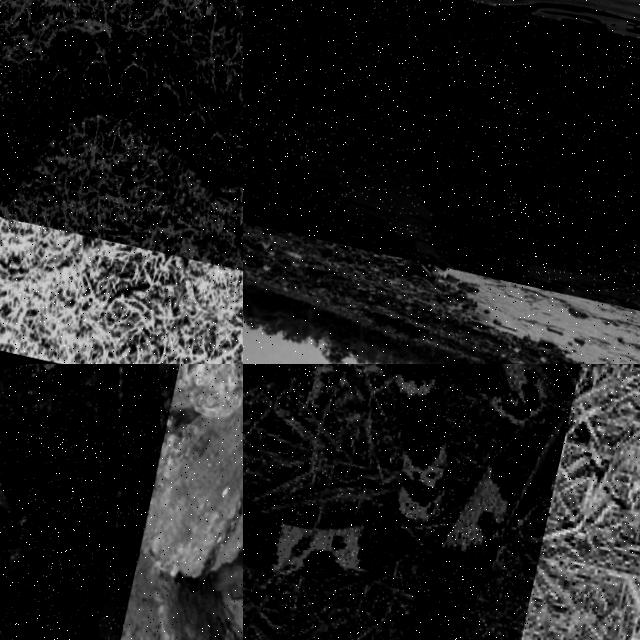Bungarus fasciatus: (80, 364, 159, 614)
Daboia siamensis: (0, 38, 242, 198)
Naja siamensis: (243, 364, 561, 639)
Python bivittatus: (243, 0, 639, 280)
snake: (243, 0, 639, 280), (243, 364, 561, 639), (0, 38, 242, 198), (80, 364, 159, 614)
